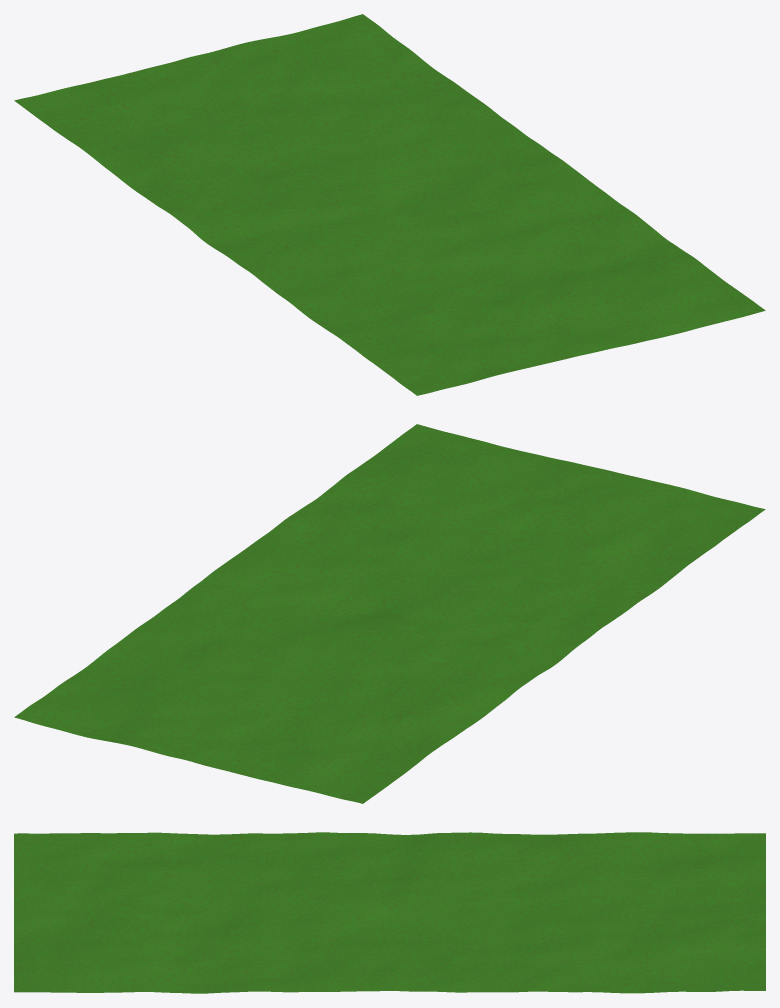
3 views of the same model, one above another, from view 1: azimuth 30°, elevation 25°; view 2: azimuth 150°, elevation 25°; view 3: azimuth 270°, elevation 25° (orthographic). The views are drawn at different scales.
Visible parts, largest first — view 1: Ground; view 2: Ground; view 3: Ground.
Part boxes in pixels (x1,y1,x2,y2): Ground: [14, 14, 765, 395]; Ground: [14, 424, 765, 803]; Ground: [14, 832, 765, 993].
Bounding box in the file's own units: 100 × 1.22 × 200.
1 material, 1 textured.
